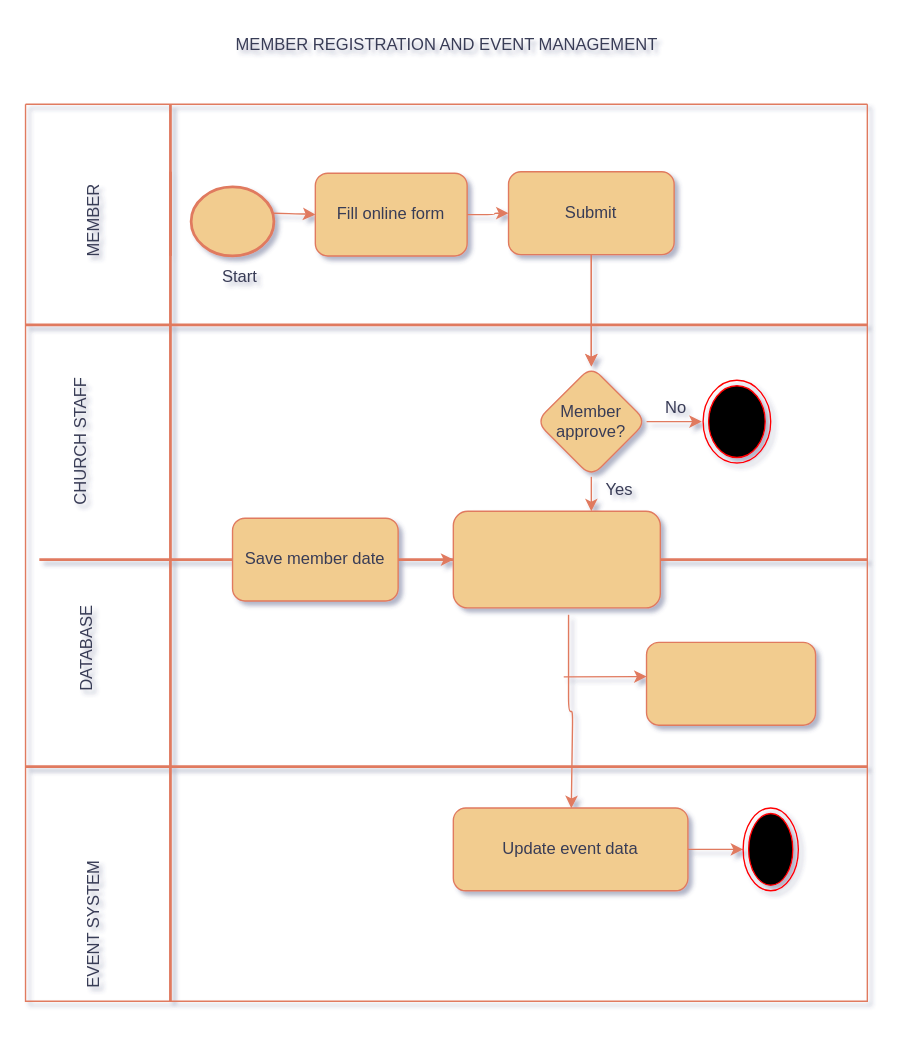
Image size: 900x1039. Some labels were removed from this diagram. Each missing label, with the centre of its shape:
"Send to ministry" belongs at [556,559].
"Sign-up-event" belongs at [730,683].
